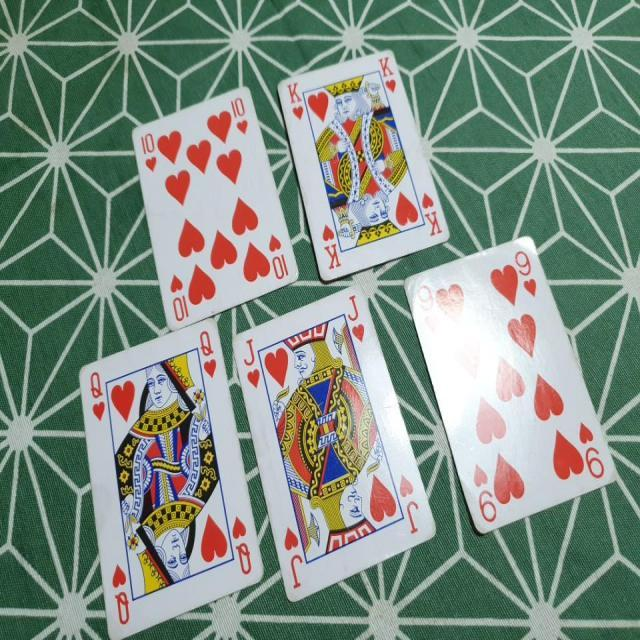10 of hearts: (139, 84, 302, 332)
9 of hearts: (412, 224, 620, 534)
jack of hearts: (232, 282, 434, 618)
king of hearts: (276, 40, 455, 288)
queen of hearts: (73, 316, 266, 634)
